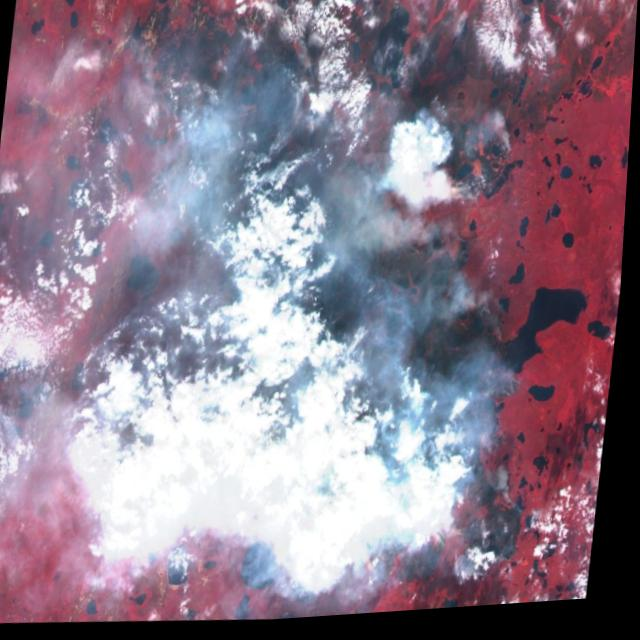fire: (192, 101, 581, 628)
